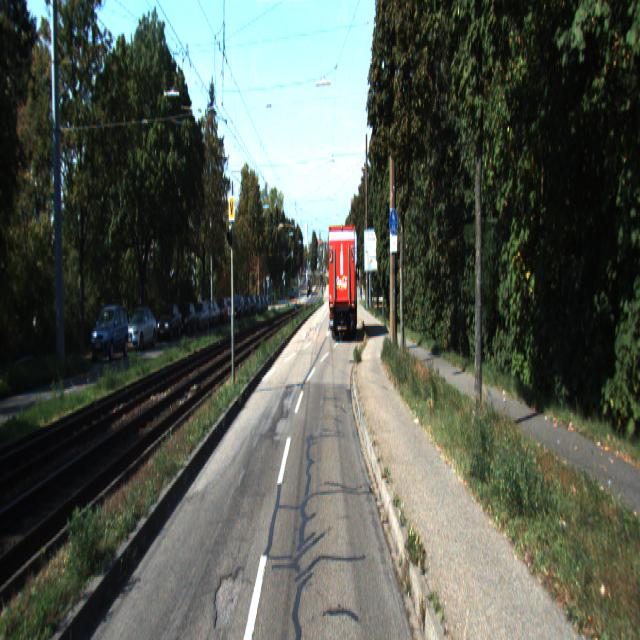Car: (326, 225, 358, 345), (90, 305, 130, 364), (122, 308, 157, 354), (153, 307, 182, 347)
